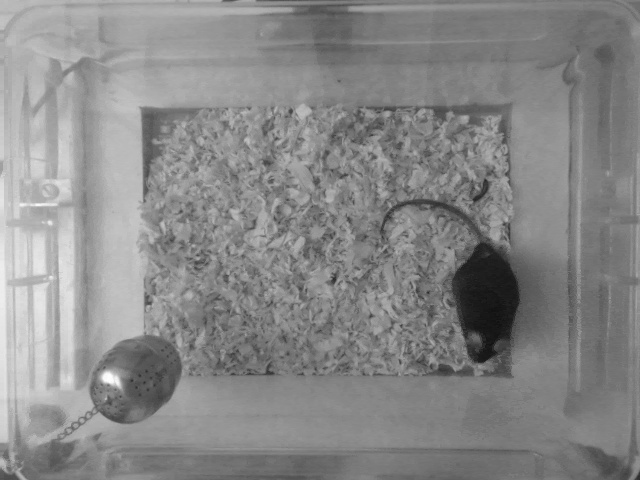mice: (375, 197, 522, 365)
